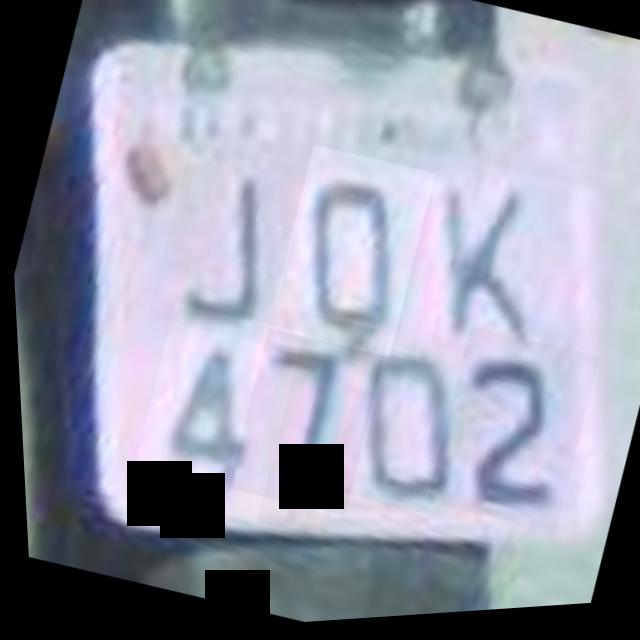0: (317, 318, 497, 532)
1: (215, 302, 393, 526)
2: (413, 326, 602, 546)
4: (115, 298, 307, 532)
7: (209, 301, 390, 532)
J: (137, 137, 317, 355)
K: (387, 153, 572, 377)
O: (257, 143, 440, 368)
